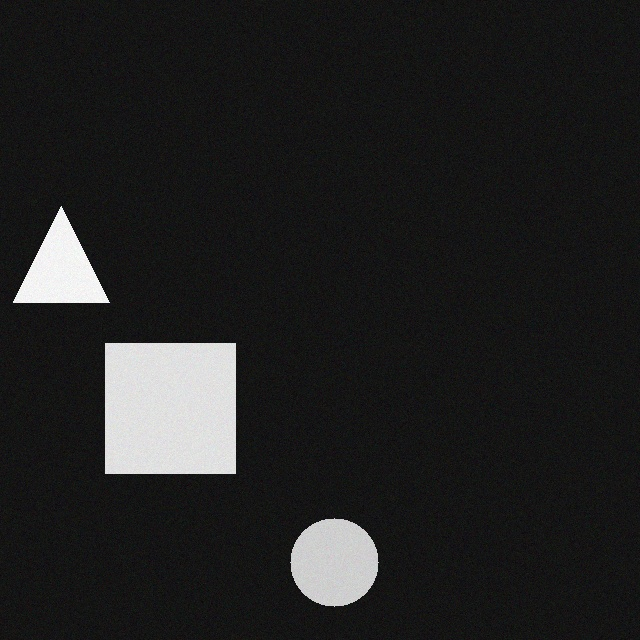circle: (284, 512, 372, 600)
square: (99, 337, 229, 467)
triangle: (7, 200, 103, 296)
